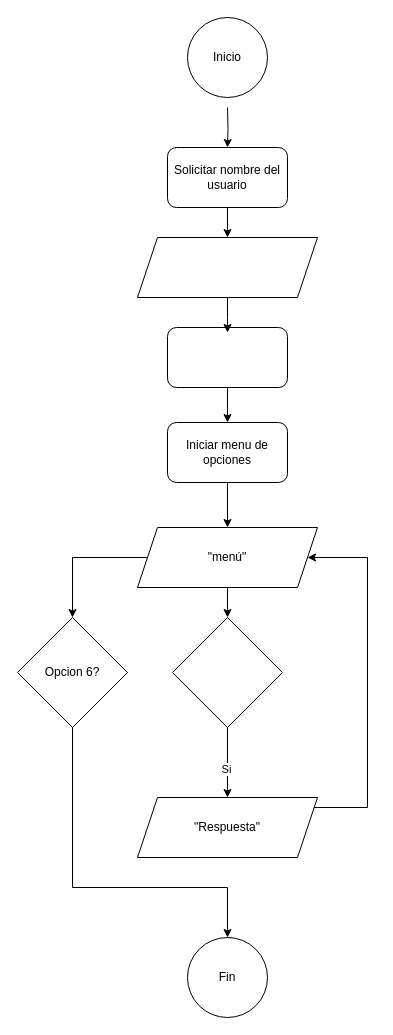
This 393x1035 diagram has some shape labels left out. Each missing label, with the box of its shape:
"nombre de usuario": (136, 236, 318, 298)
Dar mensaje de bienvenida: (166, 326, 288, 388)
Opción 1...5?: (172, 616, 282, 728)
